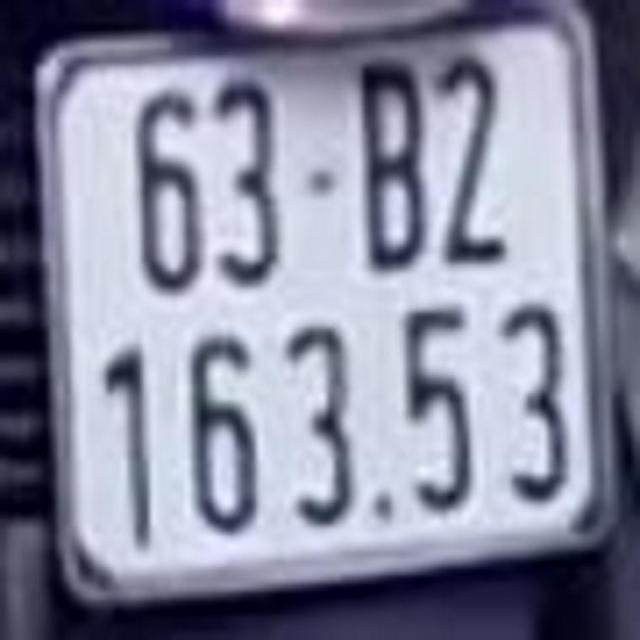1: (98, 347, 166, 552)
2: (437, 48, 510, 272)
3: (282, 314, 354, 538), (495, 298, 572, 504), (208, 74, 278, 295)
5: (398, 297, 481, 522)
6: (186, 330, 266, 537), (132, 82, 207, 295)
B: (352, 49, 427, 273)
